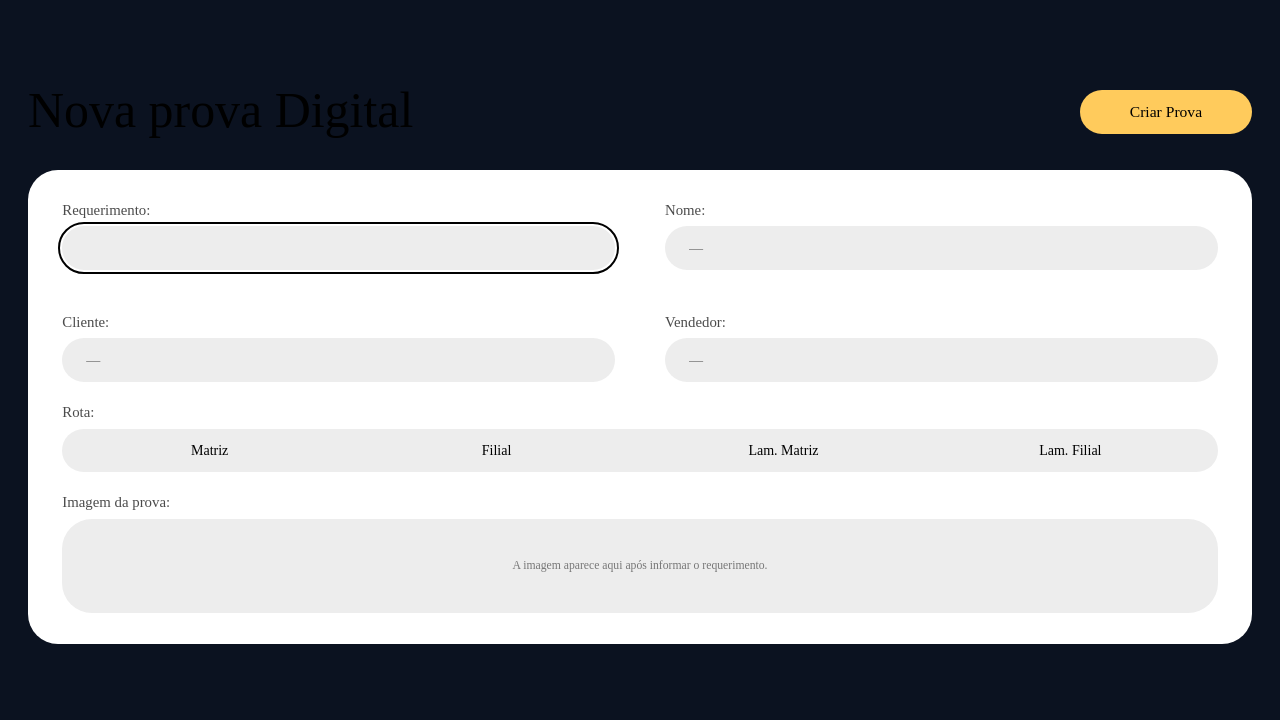
Test case: NovaProvaView (Fatia 4 — criação por requerimento) › erro da API na criação vira toast e o formulário segue editável
Type "150288" into the field labelled "Requerimento:" at (339, 248), box [62,226,615,270]
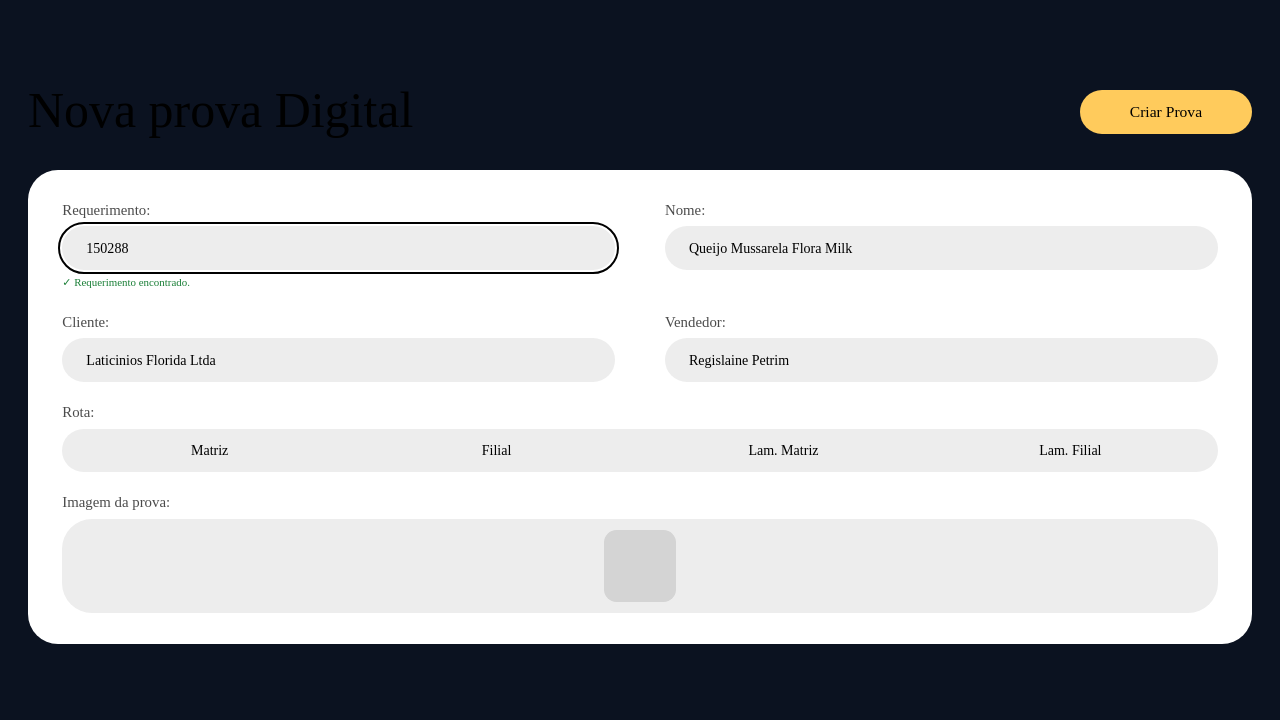
Now the text "✓ Requerimento encontrado." is shown, box [62,276,190,288]
Click the radio button labelled "Matriz" at (210, 451), box [66,433,353,468]
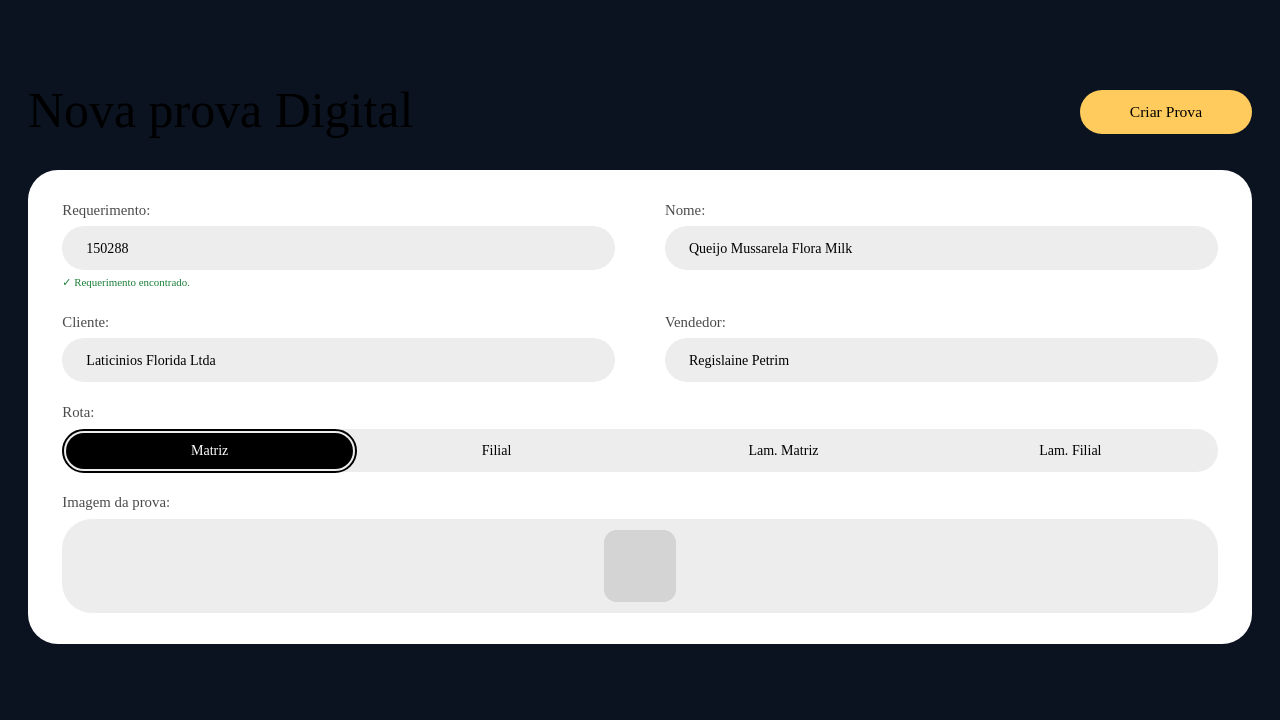
Click the button "Criar Prova" at (1166, 112), box [1080,90,1252,134]
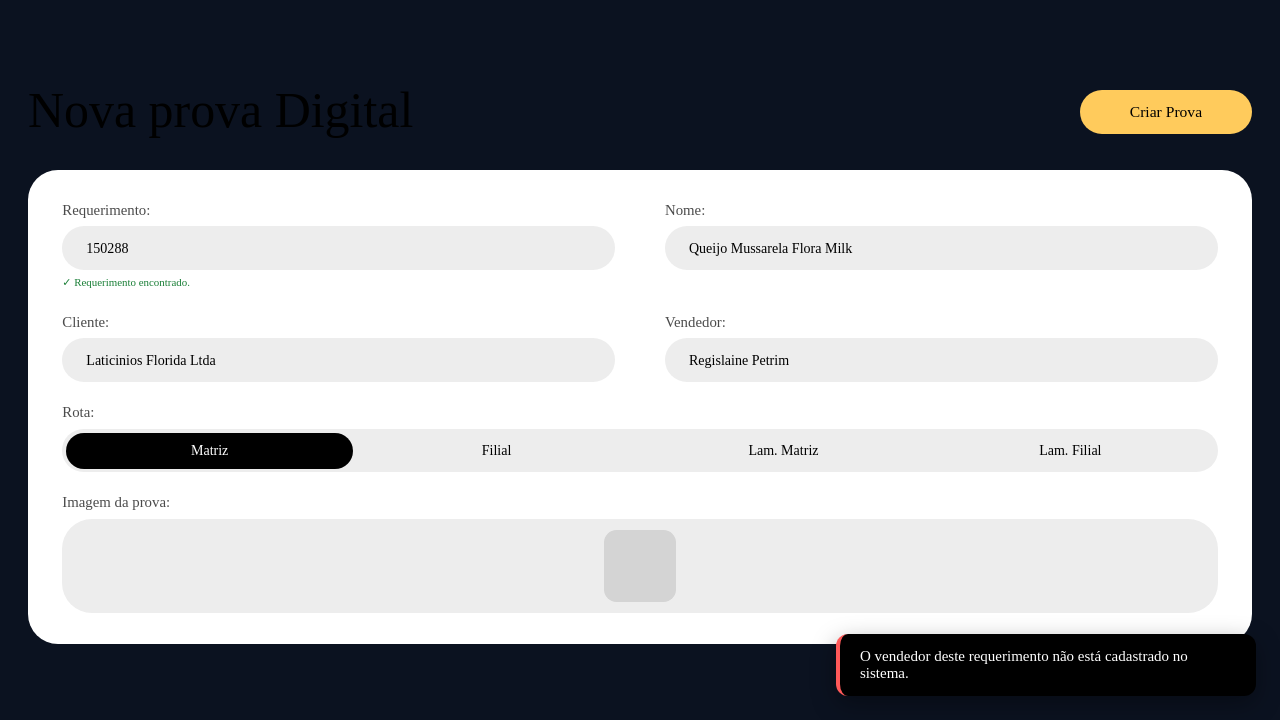
Now the text "O vendedor deste requerimento não está cadastrado no sistema." is shown, box [836,634,1256,696]
